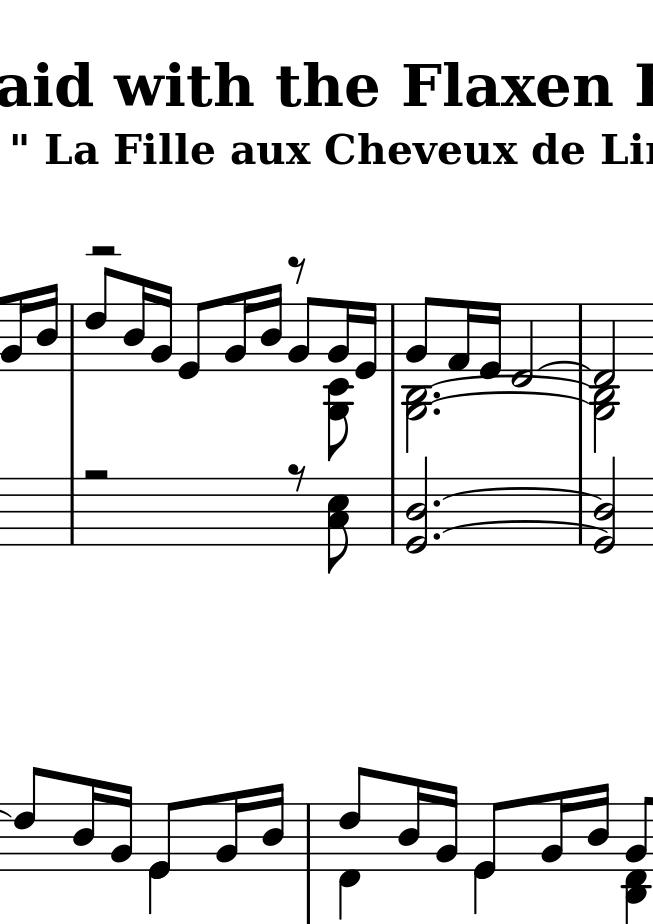16_0: (353, 300, 379, 381), (478, 300, 503, 380)
16_1: (446, 299, 475, 374)
16_2: (539, 789, 571, 872), (214, 789, 245, 873), (221, 291, 253, 372), (149, 281, 173, 373), (109, 783, 133, 873), (435, 783, 459, 872), (326, 299, 354, 373), (1, 292, 25, 374)
16_4: (71, 776, 101, 872), (396, 776, 426, 872), (122, 276, 150, 372), (260, 782, 286, 873), (586, 782, 611, 873), (34, 283, 59, 373), (258, 283, 283, 373)
2_-1: (508, 301, 535, 386)
2_0_4: (405, 455, 430, 556), (592, 454, 617, 555)
8_0: (175, 299, 211, 382)
8_2: (404, 295, 436, 370), (286, 296, 316, 372)
8_6: (338, 765, 374, 870), (12, 764, 46, 873), (83, 265, 116, 373)
Rests2: (80, 466, 111, 484)
Rests8: (285, 460, 308, 494), (285, 253, 307, 285)
Single_barline: (299, 803, 322, 870), (573, 305, 590, 371), (573, 475, 588, 544), (65, 478, 80, 544), (385, 307, 399, 371), (386, 478, 399, 544)
Slur: (418, 391, 591, 408), (438, 485, 603, 502), (442, 521, 603, 536), (420, 376, 595, 389), (539, 360, 590, 369)
dot: (431, 497, 442, 509), (431, 531, 442, 541), (431, 406, 441, 416)
